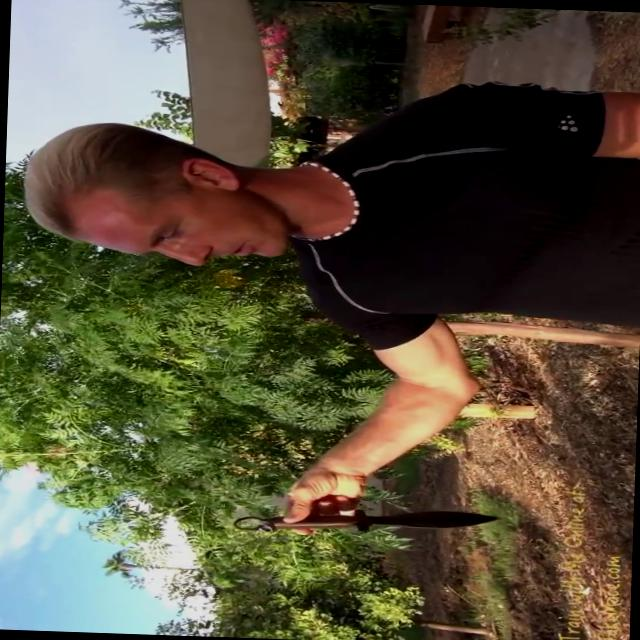knife: (215, 487, 508, 544)
